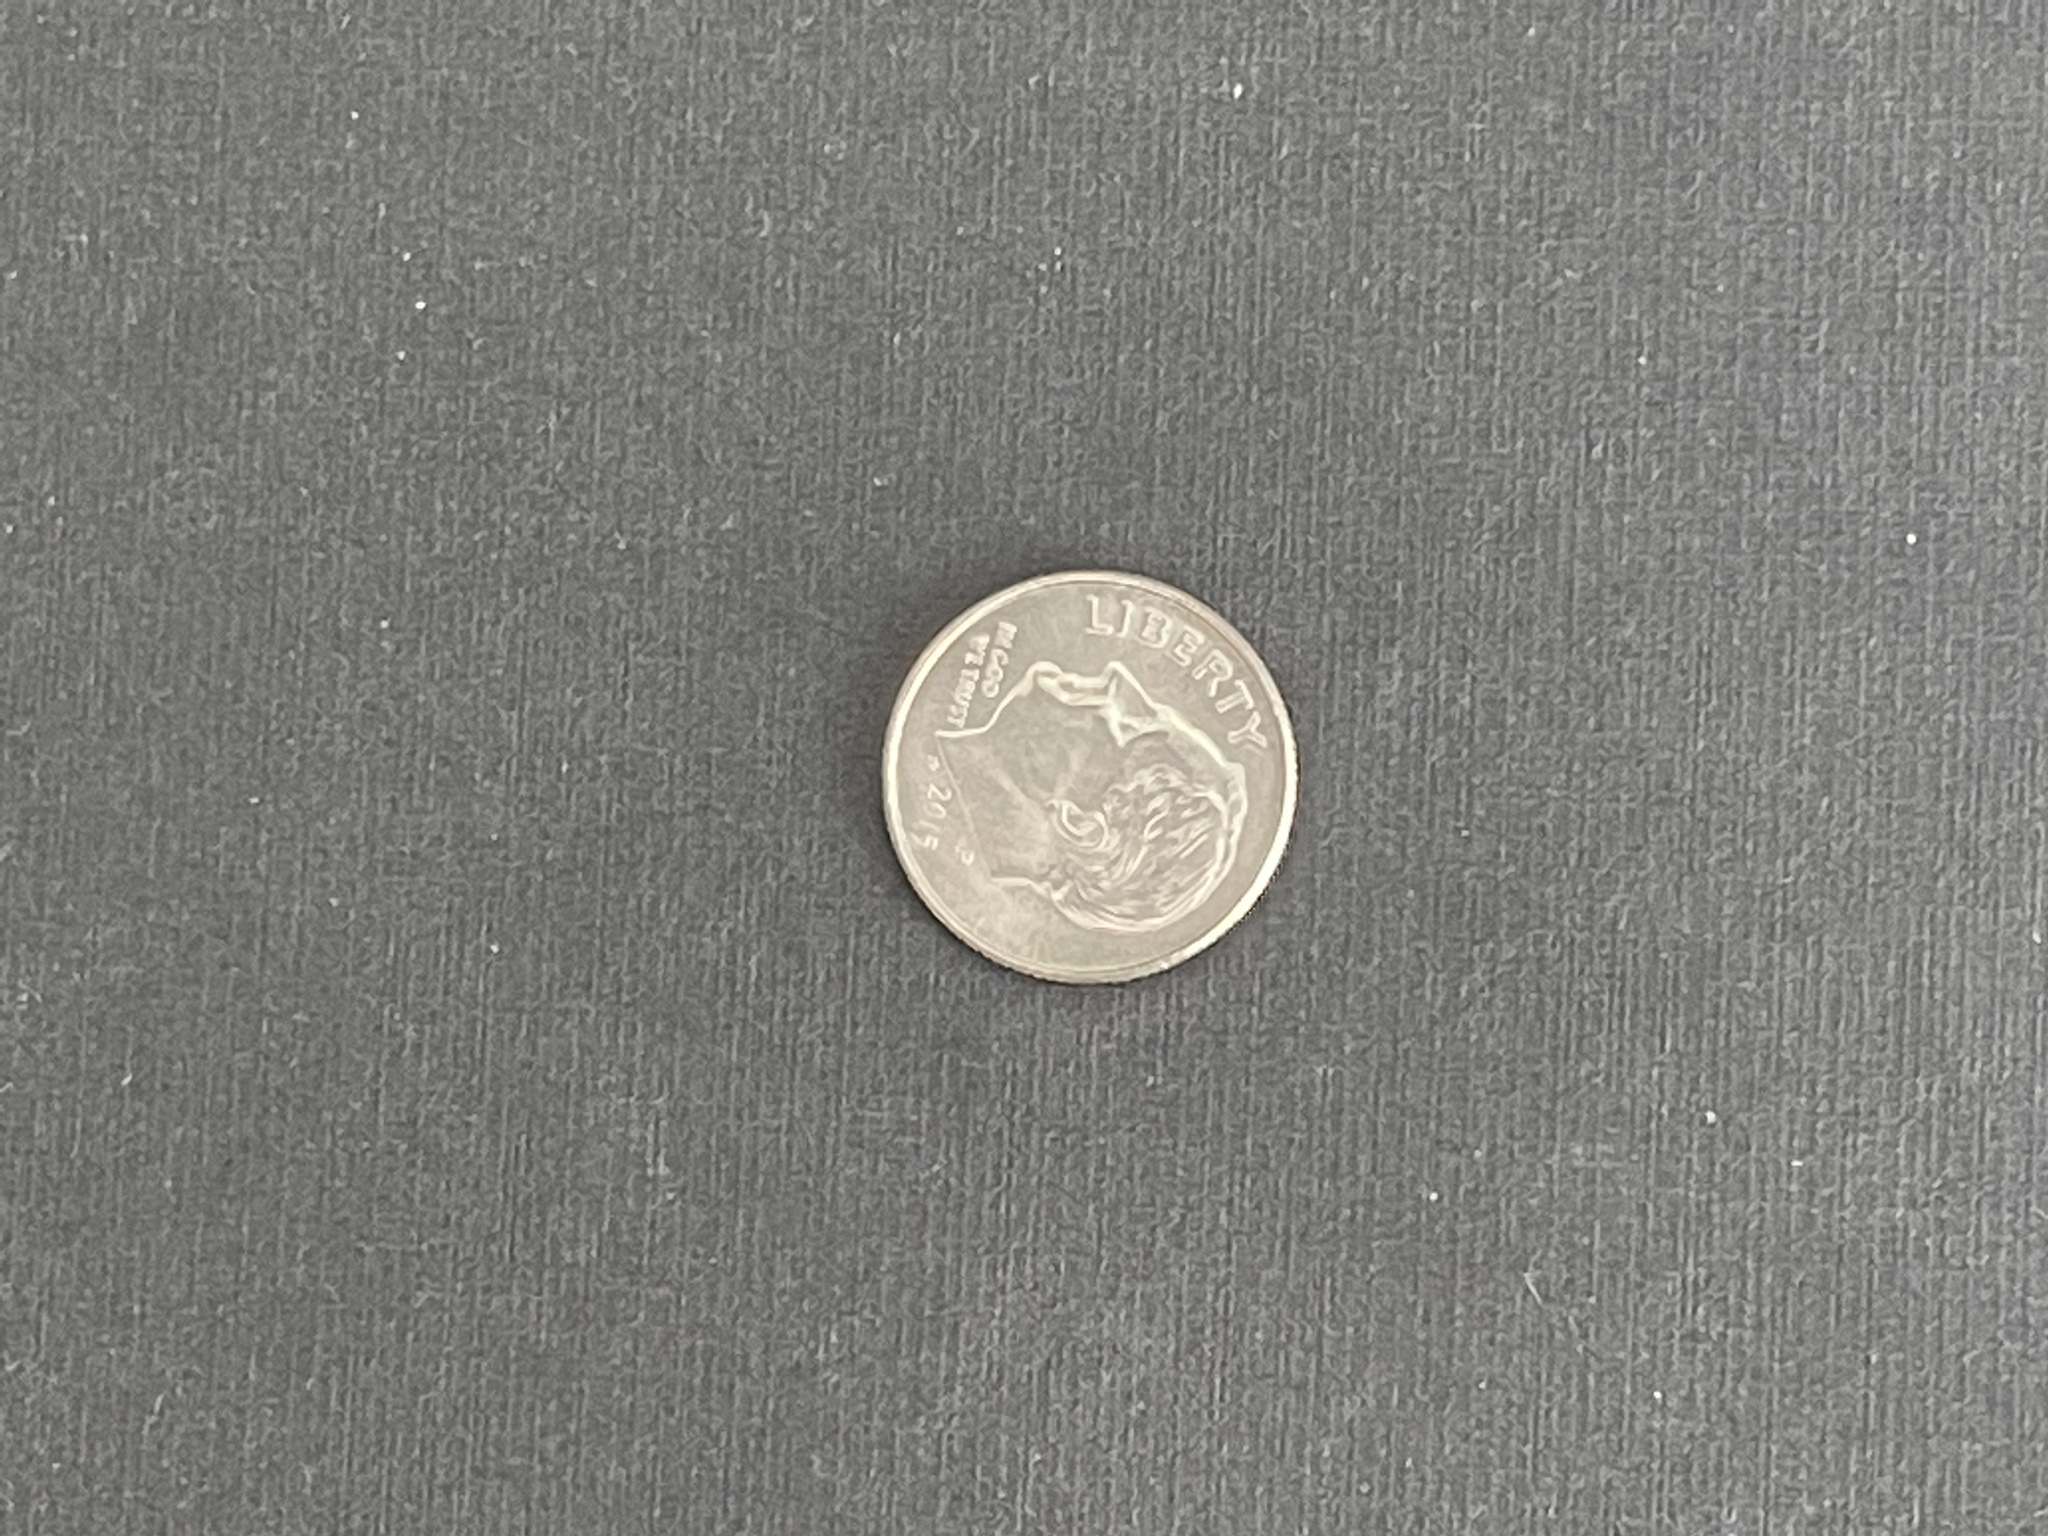dime: (871, 561, 1301, 991)
